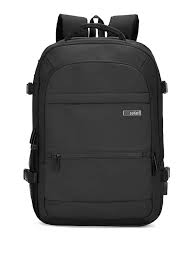backpack: (23, 12, 170, 226)
